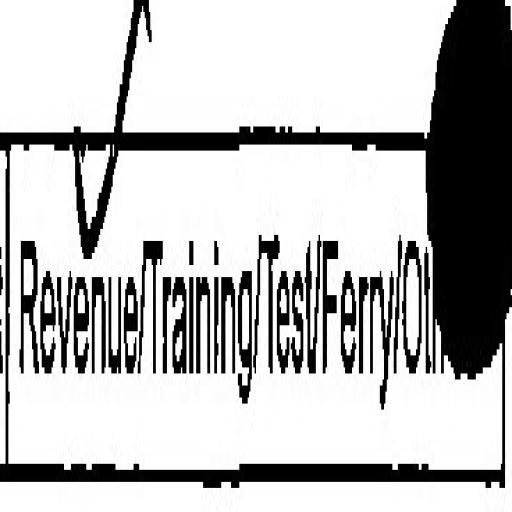check: (10, 0, 143, 512)
